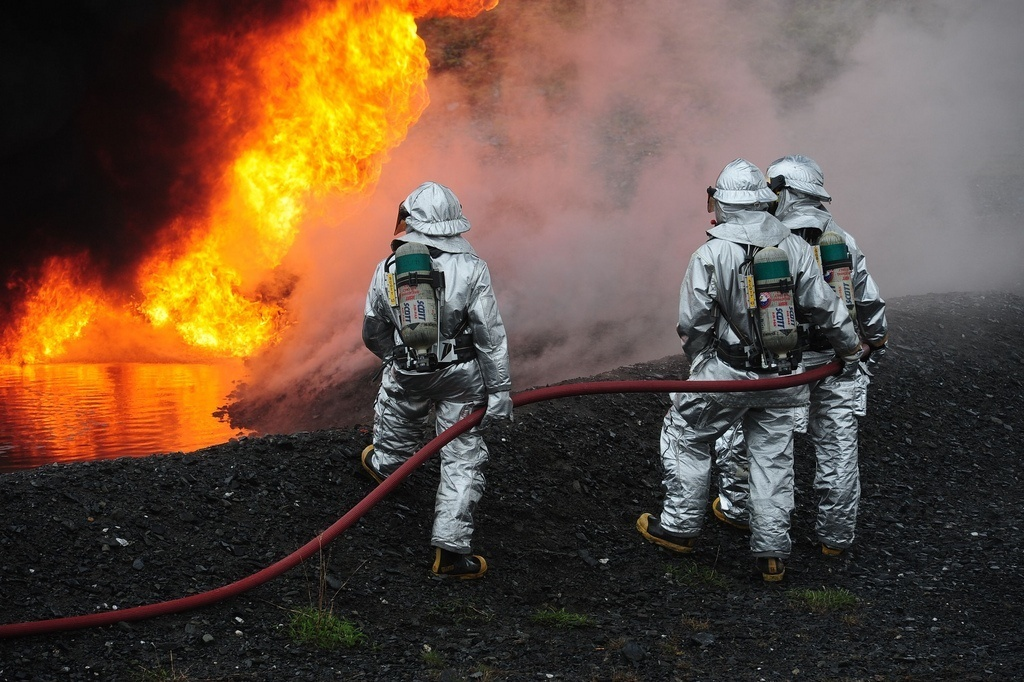fire: (3, 0, 447, 403)
